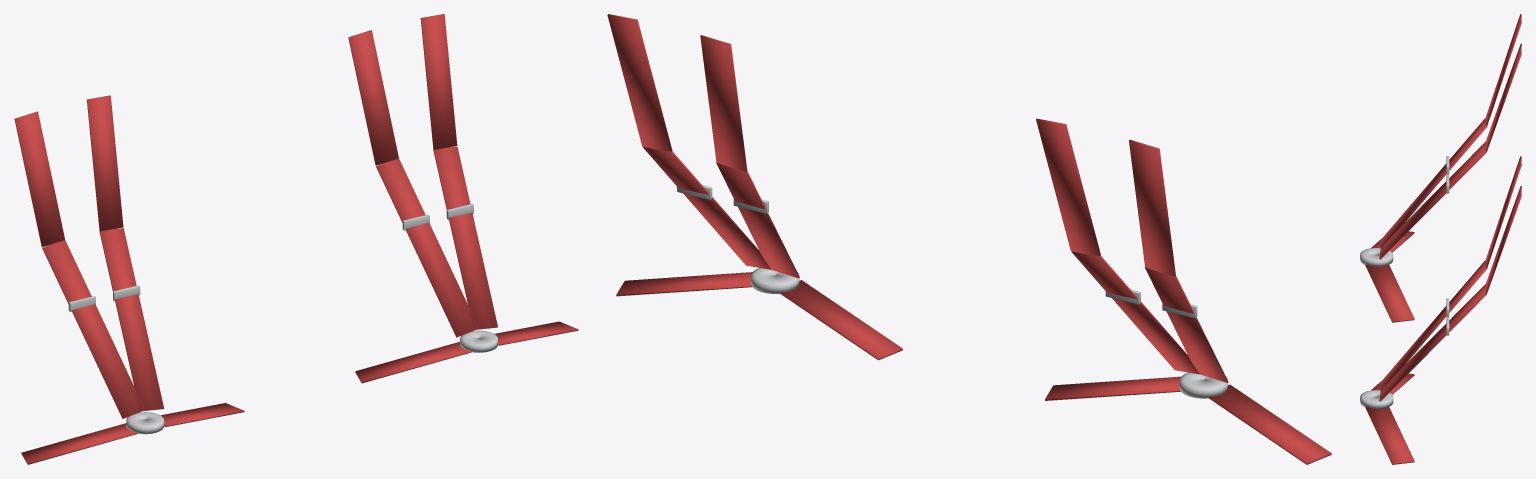
File: HN01_harnesses.glb
3 views of the same model, side by side, from view 1: azimuth 30°, elevation 25°; view 2: azimuth 150°, elevation 25°; view 3: azimuth 270°, elevation 25° (orthographic). The views are drawn at different scales.
Parts seen in each view (by area): view 1: MOD_ND_HN01_shoulder_La1, MOD_ND_HN01_shoulder_Ra1, MOD_ND_HN01_shoulder_Lb1, MOD_ND_HN01_shoulder_Rb1, MOD_ND_HN01_shoulder_Ra0, MOD_ND_HN01_shoulder_La0, MOD_ND_HN01_shoulder_Lb0, MOD_ND_HN01_shoulder_Rb0, MOD_ND_HN01_lap_Ra, MOD_ND_HN01_lap_La, MOD_ND_HN01_lap_Lb, MOD_ND_HN01_lap_Rb (+2 smaller); view 2: MOD_ND_HN01_shoulder_Lb0, MOD_ND_HN01_shoulder_Rb0, MOD_ND_HN01_shoulder_La0, MOD_ND_HN01_shoulder_Ra0, MOD_ND_HN01_shoulder_Lb1, MOD_ND_HN01_shoulder_Rb1, MOD_ND_HN01_lap_Ra, MOD_ND_HN01_lap_La, MOD_ND_HN01_shoulder_Ra1, MOD_ND_HN01_shoulder_La1, MOD_ND_HN01_lap_Lb, MOD_ND_HN01_lap_Rb (+2 smaller); view 3: MOD_ND_HN01_lap_Rb, MOD_ND_HN01_lap_Lb, MOD_ND_HN01_shoulder_Lb1, MOD_ND_HN01_shoulder_Rb1, MOD_ND_HN01_shoulder_Ra1, MOD_ND_HN01_shoulder_La1, MOD_ND_HN01_shoulder_Ra0, MOD_ND_HN01_shoulder_Rb0, MOD_ND_HN01_shoulder_Lb0, MOD_ND_HN01_shoulder_La0, MOD_ND_HN01_buckle_R, MOD_ND_HN01_buckle_L (+2 smaller).
Boxes of the visible parts, bbox=[...] form: MOD_ND_HN01_shoulder_La1: bbox=[376, 158, 478, 337]; MOD_ND_HN01_shoulder_Ra1: bbox=[42, 240, 144, 418]; MOD_ND_HN01_shoulder_Lb1: bbox=[433, 146, 497, 329]; MOD_ND_HN01_shoulder_Rb1: bbox=[99, 228, 164, 411]; MOD_ND_HN01_shoulder_Ra0: bbox=[14, 111, 64, 247]; MOD_ND_HN01_shoulder_La0: bbox=[348, 30, 398, 165]; MOD_ND_HN01_shoulder_Lb0: bbox=[420, 14, 457, 149]; MOD_ND_HN01_shoulder_Rb0: bbox=[86, 95, 123, 231]; MOD_ND_HN01_lap_Ra: bbox=[21, 423, 137, 464]; MOD_ND_HN01_lap_La: bbox=[355, 341, 471, 383]; MOD_ND_HN01_lap_Lb: bbox=[494, 321, 578, 345]; MOD_ND_HN01_lap_Rb: bbox=[161, 403, 244, 426]; MOD_ND_HN01_shoulder_Lb0: bbox=[607, 14, 672, 151]; MOD_ND_HN01_shoulder_Rb0: bbox=[1036, 118, 1100, 256]; MOD_ND_HN01_shoulder_La0: bbox=[700, 35, 747, 171]; MOD_ND_HN01_shoulder_Ra0: bbox=[1129, 139, 1175, 276]; MOD_ND_HN01_shoulder_Lb1: bbox=[643, 147, 771, 269]; MOD_ND_HN01_shoulder_Rb1: bbox=[1071, 251, 1199, 374]; MOD_ND_HN01_lap_Ra: bbox=[1209, 384, 1331, 464]; MOD_ND_HN01_lap_La: bbox=[780, 280, 902, 360]; MOD_ND_HN01_shoulder_Ra1: bbox=[1145, 267, 1228, 382]; MOD_ND_HN01_shoulder_La1: bbox=[716, 162, 799, 278]; MOD_ND_HN01_lap_Lb: bbox=[616, 272, 752, 296]; MOD_ND_HN01_lap_Rb: bbox=[1045, 376, 1180, 400]; MOD_ND_HN01_lap_Rb: bbox=[1365, 264, 1414, 322]; MOD_ND_HN01_lap_Lb: bbox=[1365, 406, 1414, 464]; MOD_ND_HN01_shoulder_Lb1: bbox=[1379, 284, 1485, 401]; MOD_ND_HN01_shoulder_Rb1: bbox=[1379, 141, 1485, 259]; MOD_ND_HN01_shoulder_Ra1: bbox=[1379, 118, 1487, 248]; MOD_ND_HN01_shoulder_La1: bbox=[1379, 260, 1487, 390]; MOD_ND_HN01_shoulder_Ra0: bbox=[1485, 14, 1521, 126]; MOD_ND_HN01_shoulder_Rb0: bbox=[1485, 43, 1521, 152]; MOD_ND_HN01_shoulder_Lb0: bbox=[1485, 186, 1521, 294]; MOD_ND_HN01_shoulder_La0: bbox=[1485, 156, 1521, 268]; MOD_ND_HN01_buckle_R: bbox=[1360, 248, 1393, 266]; MOD_ND_HN01_buckle_L: bbox=[1360, 390, 1393, 408].
Bounding box in the file's own units: 1.14 × 0.551 × 0.3317.
